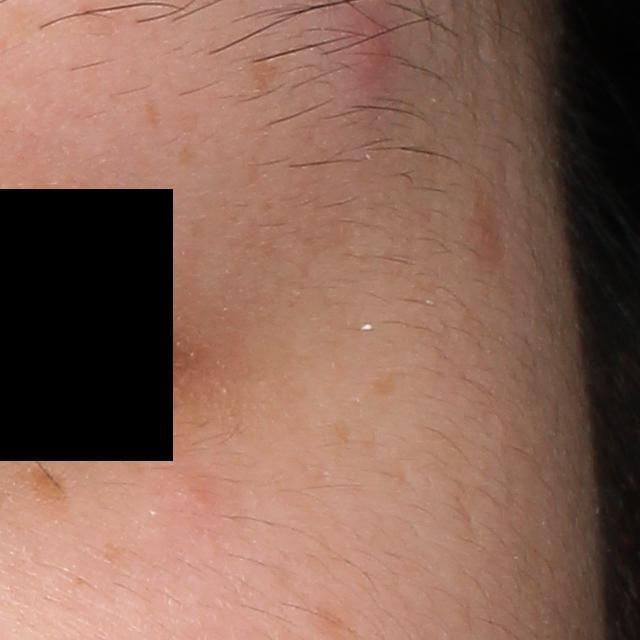melasma: (27, 464, 70, 505), (248, 55, 282, 98), (371, 367, 402, 396), (142, 94, 160, 130), (333, 418, 354, 444)
papule: (349, 21, 393, 75)
